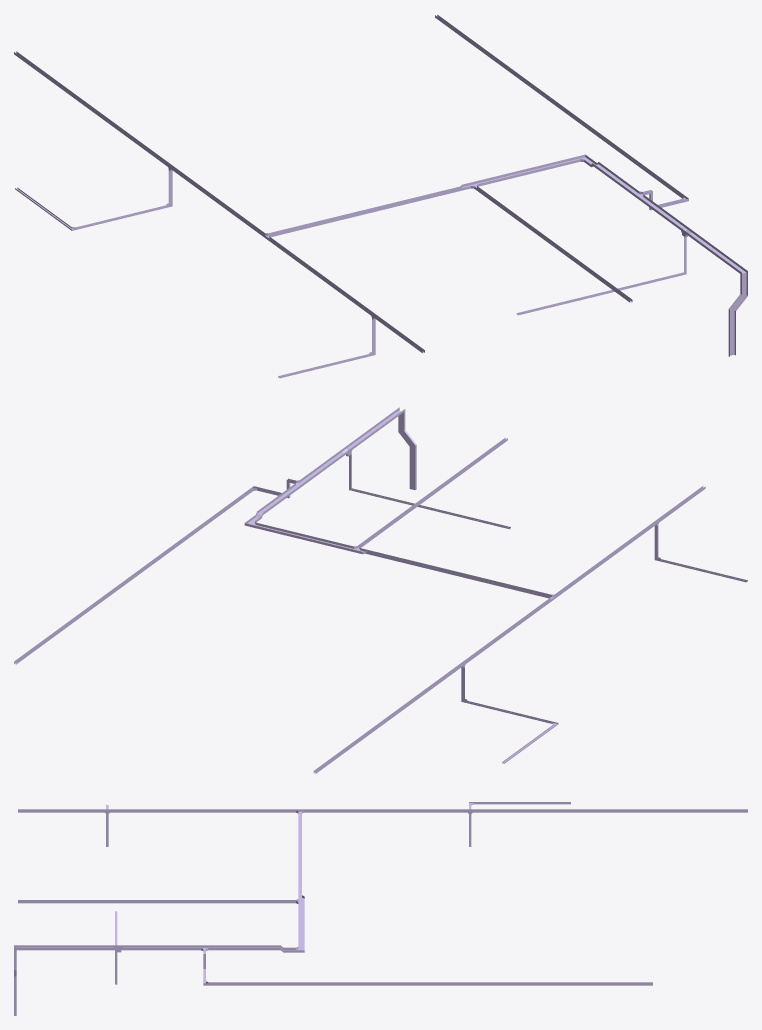
3 renders of one model, top to bottom at view 1: azimuth 30°, elevation 25°; view 2: azimuth 150°, elevation 25°; view 3: azimuth 270°, elevation 25°, orthographic. The views are drawn at different scales.
Parts seen in each view (by area): view 1: L3-S-37EF1, L3-S-37C1C, L3-S-37C6F, L3-S-37C20, L3-S-37C1A; view 2: L3-S-37EF1, L3-S-37C1C, L3-S-37C6F, L3-S-37C20; view 3: L3-S-37EF1, L3-S-37C6F, L3-S-37C20, L3-S-37BE6, L3-S-37C1F, L3-S-37C73, L3-S-37C72, L3-S-37EFB.
Part boxes in pixels (x1,y1,x2,y2): L3-S-37EF1: (435, 14, 684, 198); L3-S-37C1C: (271, 187, 460, 236); L3-S-37C6F: (475, 186, 632, 302); L3-S-37C20: (14, 51, 168, 165); L3-S-37C1A: (477, 157, 576, 185); L3-S-37EF1: (14, 489, 251, 664); L3-S-37C1C: (368, 550, 548, 597); L3-S-37C6F: (358, 437, 507, 547); L3-S-37C20: (313, 664, 461, 773); L3-S-37EF1: (211, 982, 652, 985); L3-S-37C6F: (18, 900, 294, 903); L3-S-37C20: (475, 809, 747, 812); L3-S-37BE6: (112, 809, 294, 812); L3-S-37C1F: (306, 809, 464, 812); L3-S-37C73: (22, 945, 111, 950); L3-S-37C72: (125, 945, 197, 950); L3-S-37EFB: (211, 945, 279, 950).
Size of the model in its own units: 38.36 by 6.4 by 58.26.
